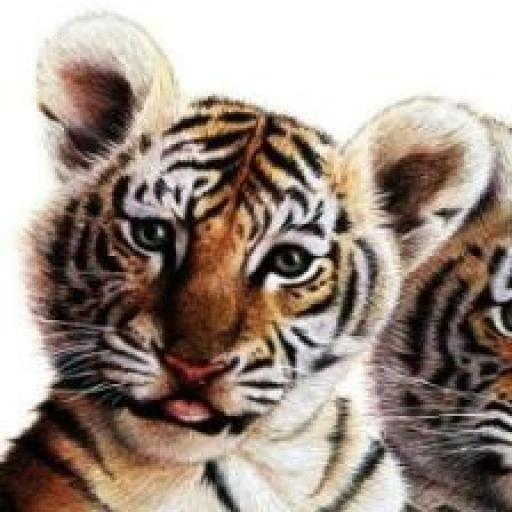Tiger: (20, 13, 512, 512)
